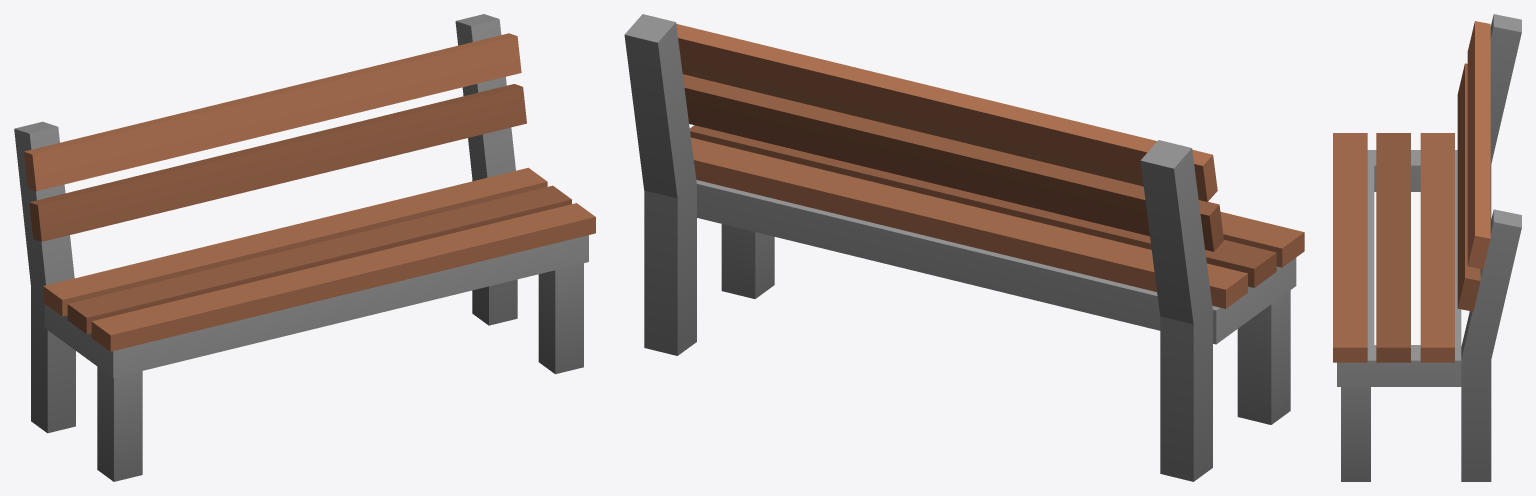
Rendered from bench 2.fbx.
3 views of the same model, side by side, from view 1: azimuth 30°, elevation 25°; view 2: azimuth 150°, elevation 25°; view 3: azimuth 270°, elevation 25° (orthographic). The views are drawn at different scales.
Parts seen in each view (by area): view 1: bench 2; view 2: bench 2; view 3: bench 2.
Boxes of the visible parts, <box> form: bench 2: <box>14,14,595,481</box>; bench 2: <box>624,14,1304,481</box>; bench 2: <box>1333,14,1521,481</box>.
Size of the model in its own units: 187 by 106 by 69.6.
